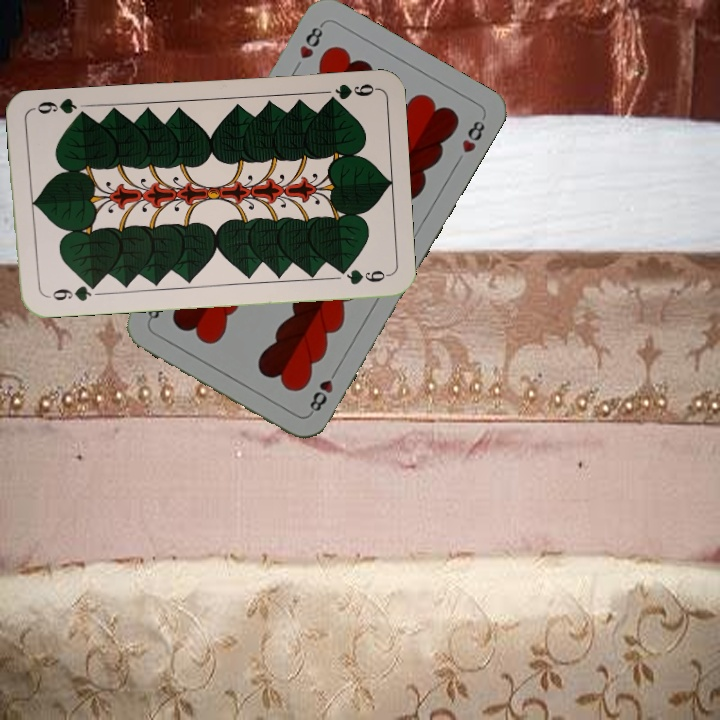G9: (320, 79, 379, 107), (41, 279, 100, 304)
H8: (305, 363, 341, 417), (295, 19, 327, 62)
